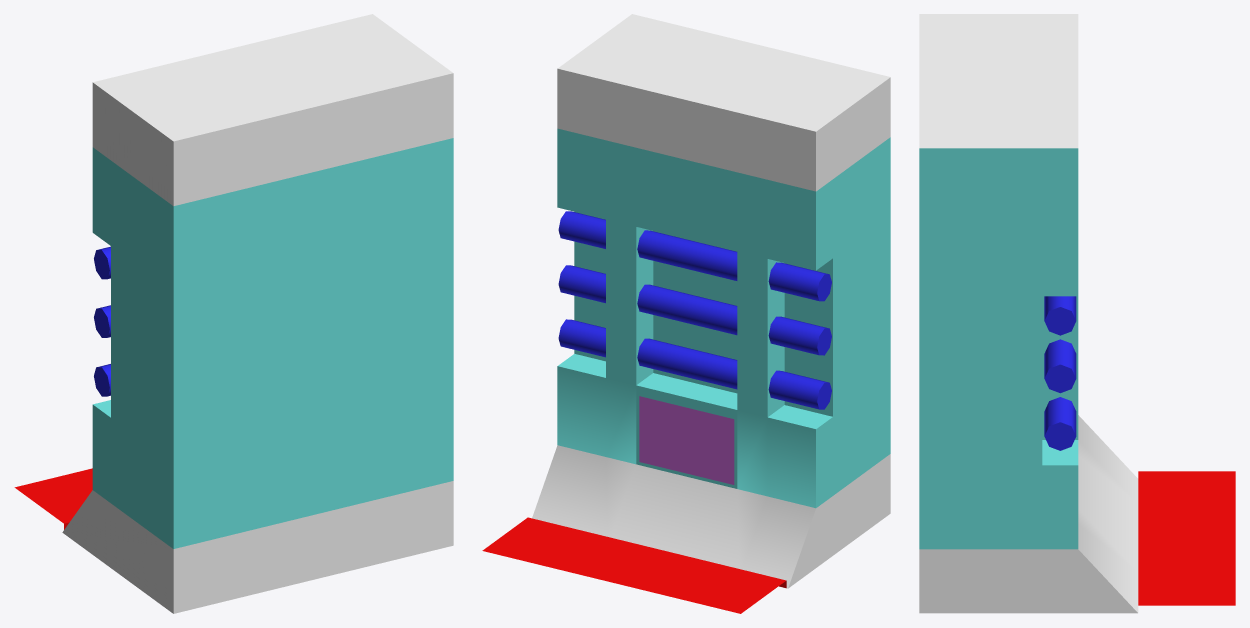
File: Wall-BaseLow.fbx
3 views of the same model, side by side, from view 1: azimuth 30°, elevation 25°; view 2: azimuth 150°, elevation 25°; view 3: azimuth 270°, elevation 25° (orthographic). The views are drawn at different scales.
Parts seen in each view (by area): view 1: BaseLow; view 2: BaseLow; view 3: BaseLow.
Part boxes in pixels (x1,y1,x2,y2): BaseLow: (14, 14, 453, 613); BaseLow: (482, 14, 890, 613); BaseLow: (919, 14, 1235, 613).
Bounding box in the file's own units: 79.2 × 127 × 78.28.
